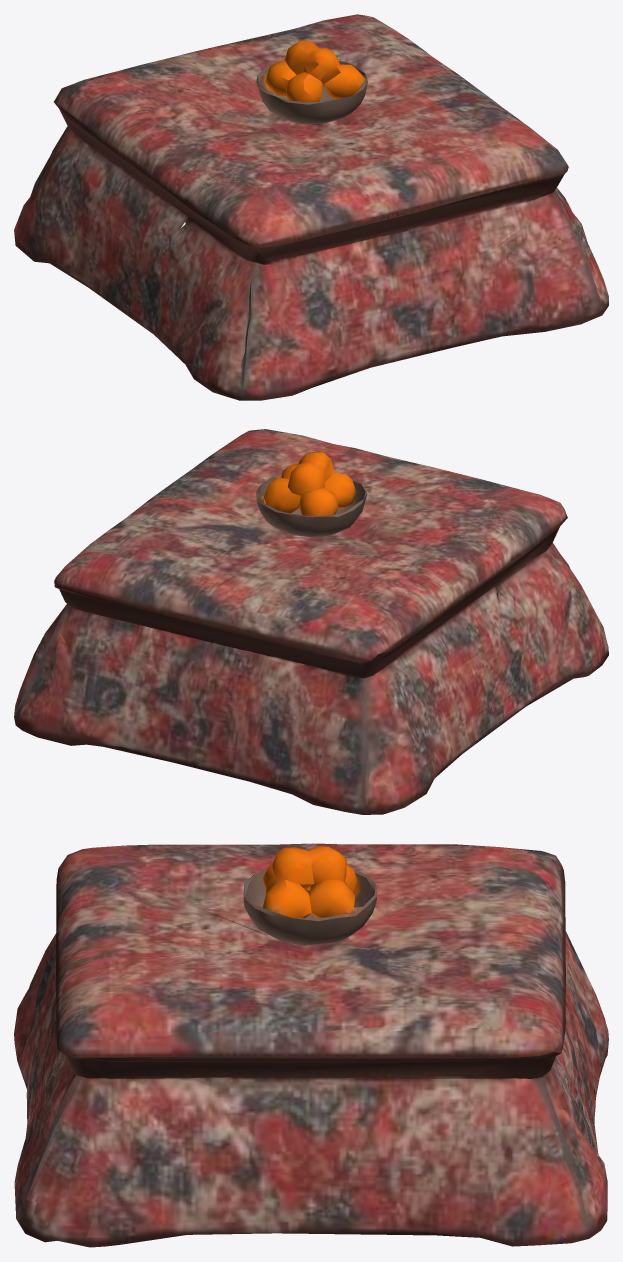
Rendered from kotatsu.glb.
3 renders of one model, top to bottom at view 1: azimuth 30°, elevation 25°; view 2: azimuth 150°, elevation 25°; view 3: azimuth 270°, elevation 25°, orthographic. The views are drawn at different scales.
Visible parts, largest first — view 1: kotatsu; view 2: kotatsu; view 3: kotatsu.
Boxes of the visible parts, x1,y1,x2,y2 form: kotatsu: (14, 14, 608, 400); kotatsu: (14, 429, 608, 814); kotatsu: (14, 843, 608, 1247).
Size of the model in its own units: 0.9035 by 0.5 by 0.9551.
1 material, 1 textured.
